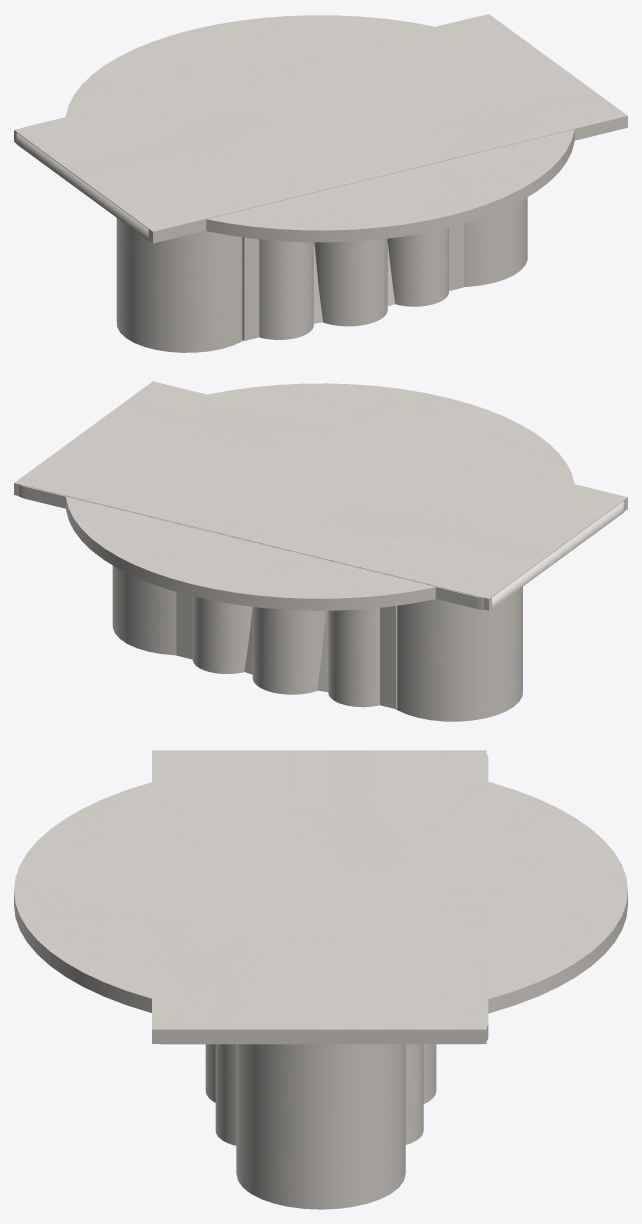
File: mokani-tafels-exports.glb
3 views of the same model, one above another, from view 1: azimuth 30°, elevation 25°; view 2: azimuth 150°, elevation 25°; view 3: azimuth 270°, elevation 25° (orthographic). The views are drawn at different scales.
Visible parts, largest first — view 1: rectastandard, roundstandard, stream, grove, secondtable, ridge, softrectastandard, eqone, tabletoponefacet16mm60; view 2: rectastandard, roundstandard, stream, grove, secondtable, ridge, softrectastandard, rectainverted20, tabletoponefacet16mm60, eqone; view 3: rectastandard, roundstandard, stream, grove, secondtable, tabletoponefacet16mm60.
Boxes of the visible parts, <box> form: rectastandard: <box>14,14,627,243</box>; roundstandard: <box>66,15,574,242</box>; stream: <box>116,197,527,352</box>; grove: <box>259,228,448,339</box>; secondtable: <box>314,238,387,326</box>; ridge: <box>242,223,463,340</box>; softrectastandard: <box>16,133,148,240</box>; eqone: <box>313,242,395,323</box>; tabletoponefacet16mm60: <box>16,16,480,228</box>; rectastandard: <box>14,381,627,610</box>; roundstandard: <box>66,383,574,610</box>; stream: <box>112,565,522,721</box>; grove: <box>192,596,379,707</box>; secondtable: <box>252,607,325,694</box>; ridge: <box>176,592,397,708</box>; softrectastandard: <box>18,485,623,609</box>; rectainverted20: <box>19,486,623,608</box>; tabletoponefacet16mm60: <box>20,485,623,605</box>; eqone: <box>244,609,328,692</box>; rectastandard: <box>152,750,486,1043</box>; roundstandard: <box>14,782,627,1013</box>; stream: <box>236,1044,405,1209</box>; grove: <box>215,1044,423,1145</box>; secondtable: <box>205,1044,436,1103</box>; tabletoponefacet16mm60: <box>172,754,488,1044</box>.
Size of the model in its own units: 7.5 by 2.54 by 6.97.
1 material, 1 textured.
